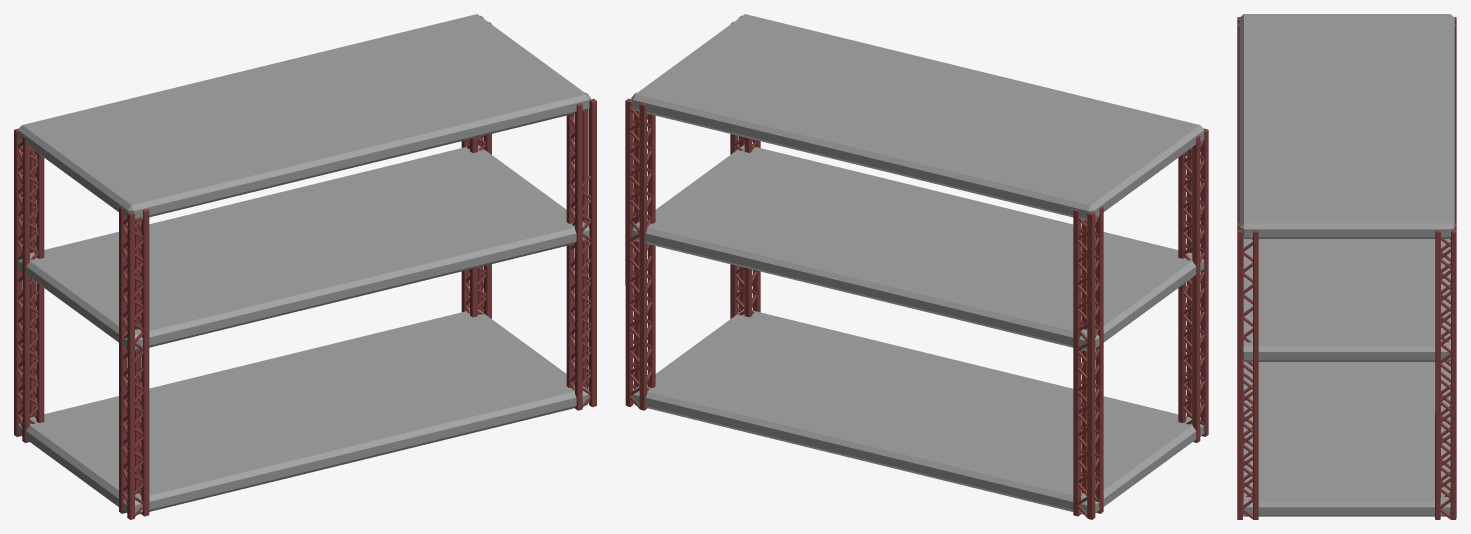
File: sm_industrialshelf.fbx
3 views of the same model, side by side, from view 1: azimuth 30°, elevation 25°; view 2: azimuth 150°, elevation 25°; view 3: azimuth 270°, elevation 25° (orthographic). The views are drawn at different scales.
Visible parts, largest first — view 1: polySurface729; view 2: polySurface729; view 3: polySurface729.
Part boxes in pixels (x1=…): polySurface729: x1=14, y1=14, x2=596, y2=519; polySurface729: x1=625, y1=14, x2=1208, y2=519; polySurface729: x1=1237, y1=14, x2=1456, y2=519.
Bounding box in the file's own units: 1523 × 969 × 657.
